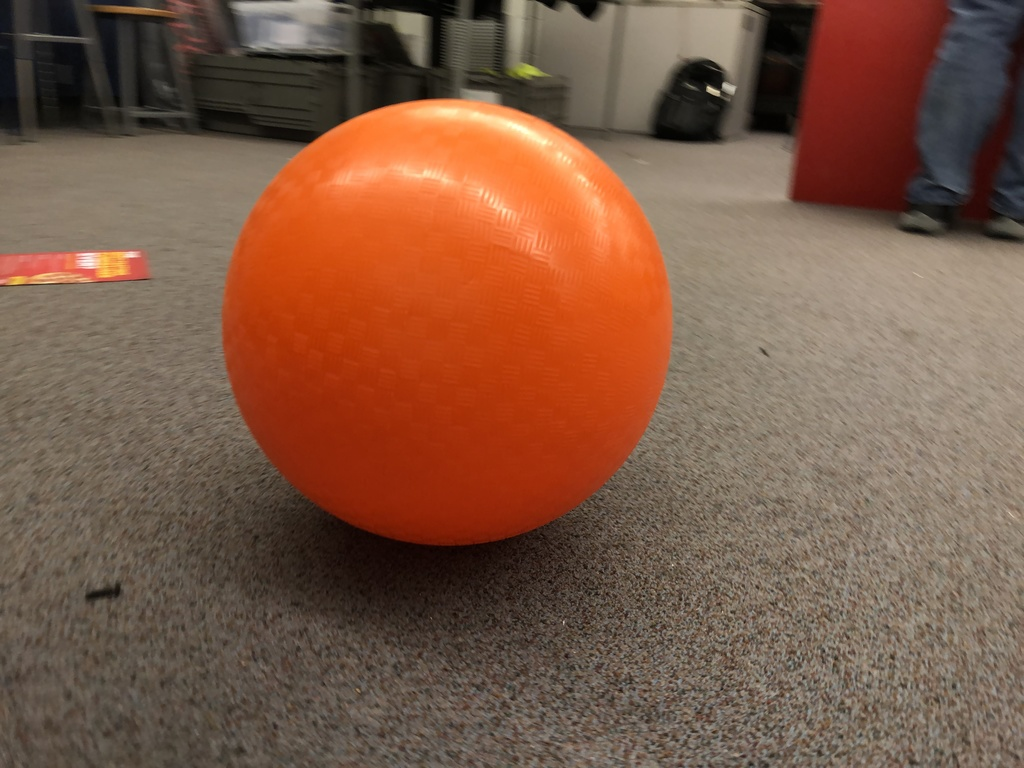cargo: (212, 77, 679, 565)
